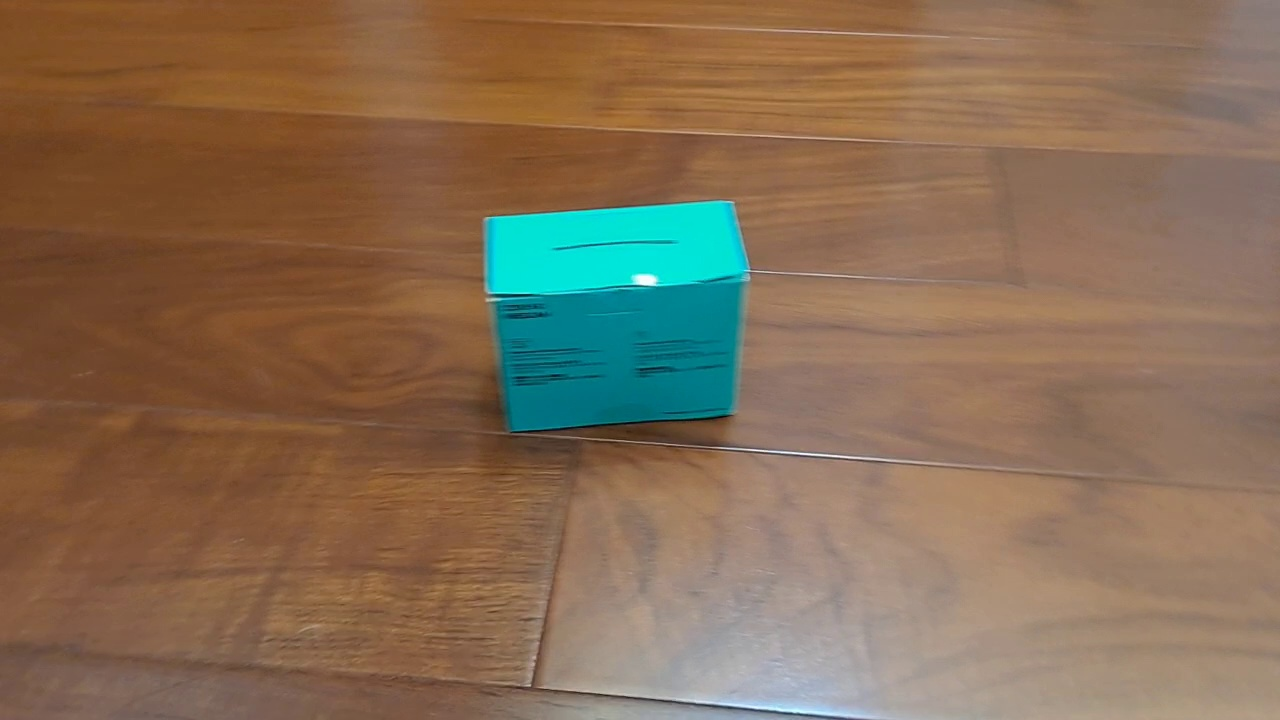webcam: (480, 198, 753, 436)
